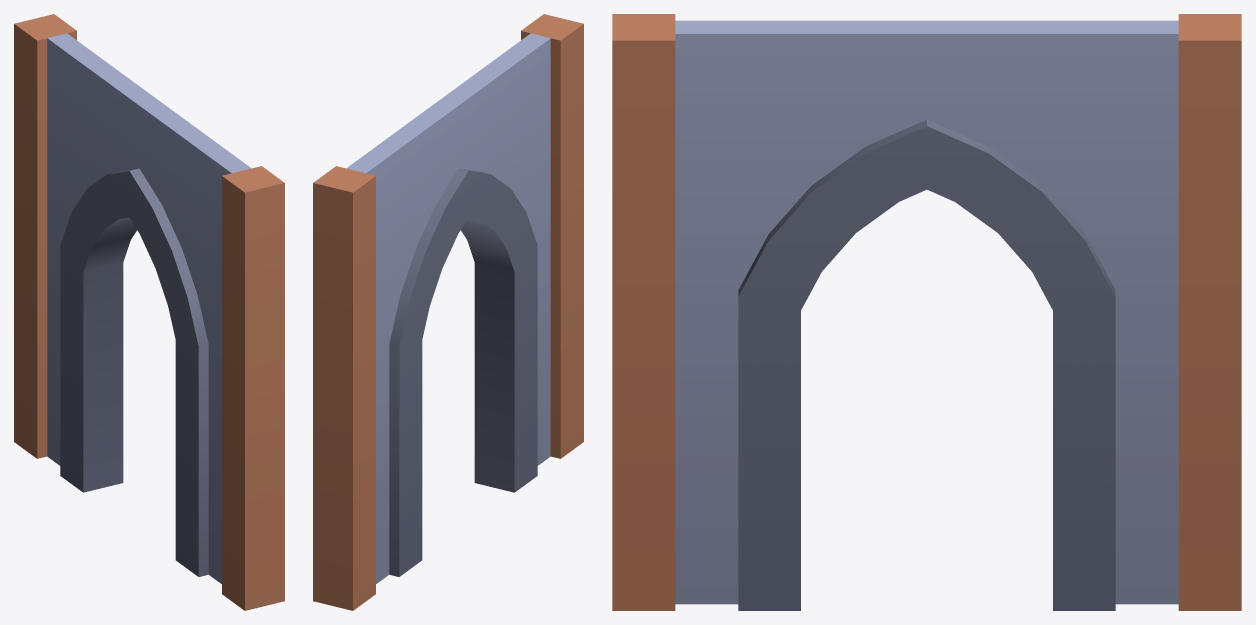
Rendered from wall-doorway-round.glb.
3 views of the same model, side by side, from view 1: azimuth 30°, elevation 25°; view 2: azimuth 150°, elevation 25°; view 3: azimuth 270°, elevation 25° (orthographic). The views are drawn at different scales.
Visible parts, largest first — view 1: wall-doorway-round; view 2: wall-doorway-round; view 3: wall-doorway-round.
Boxes of the visible parts, box(x1,y1,x2,y2) form: wall-doorway-round: box(14, 14, 284, 610); wall-doorway-round: box(313, 14, 583, 610); wall-doorway-round: box(612, 14, 1241, 610).
Size of the model in its own units: 0.1 by 1 by 1.
1 material, 1 textured.
